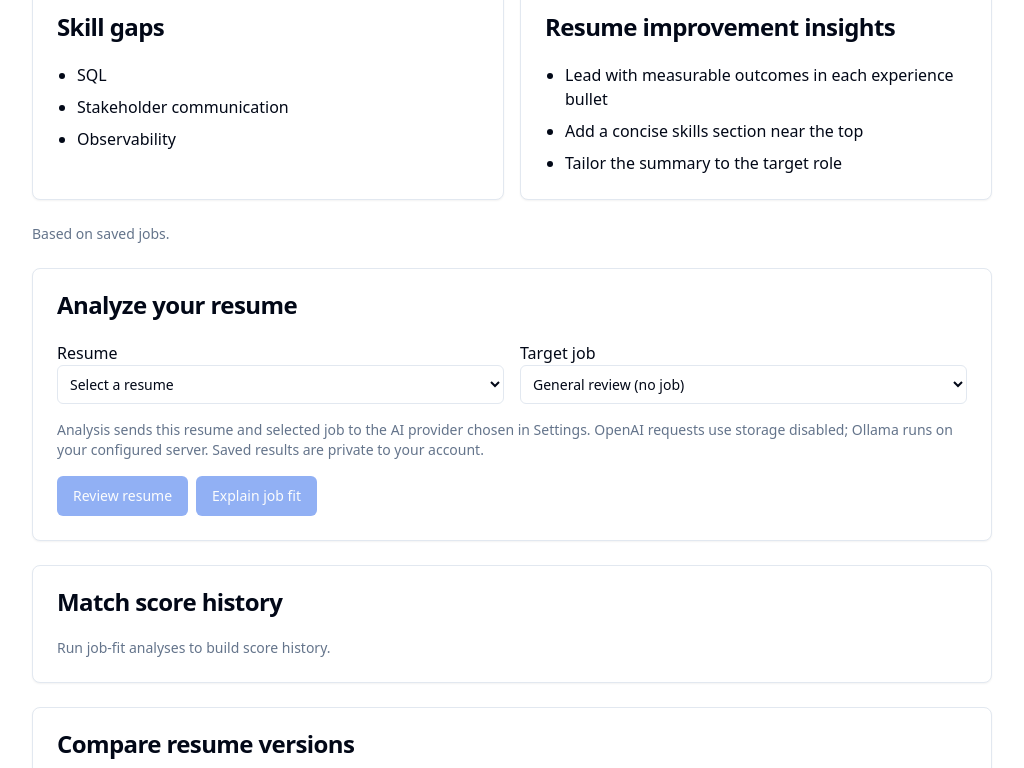
shows Demo insights when empty and submits selected IDs for explainable matching
(page scrolled)
Expected: the button "Explain job fit" is disabled, left=196, top=476, right=317, bottom=516
Select "Resume version 1" in the dropdown labelled "Resume": (280, 384) left=57, top=365, right=504, bottom=404
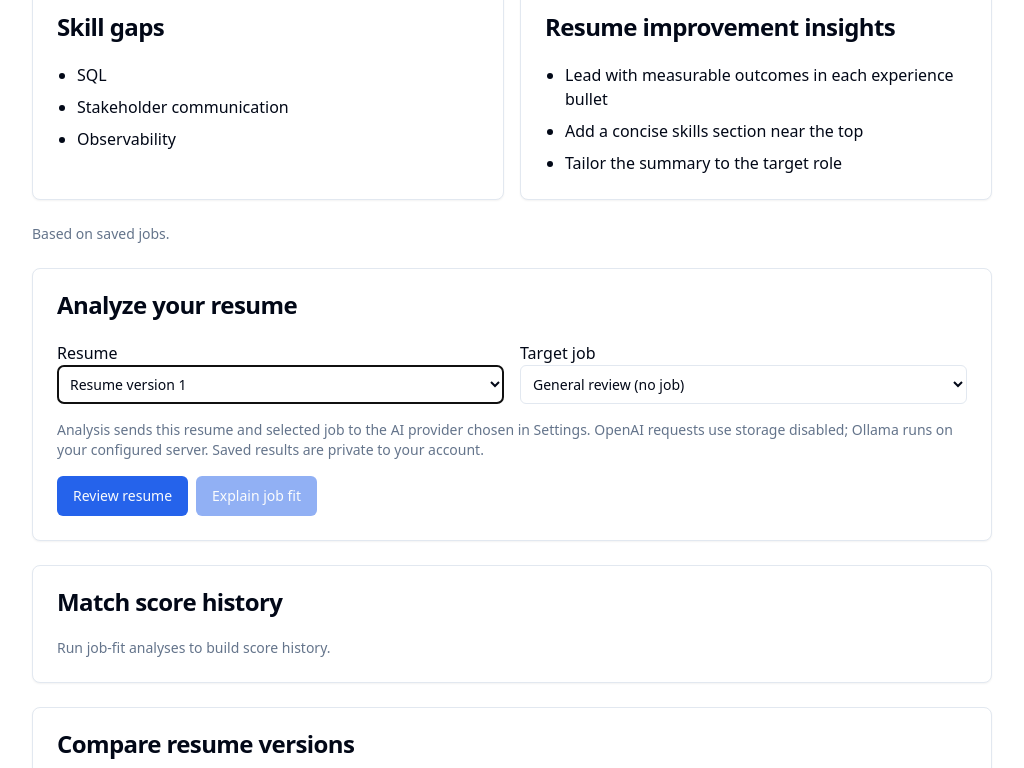
Select "Engineer · Example" in the dropdown labelled "Target job": (744, 384) left=520, top=365, right=967, bottom=404
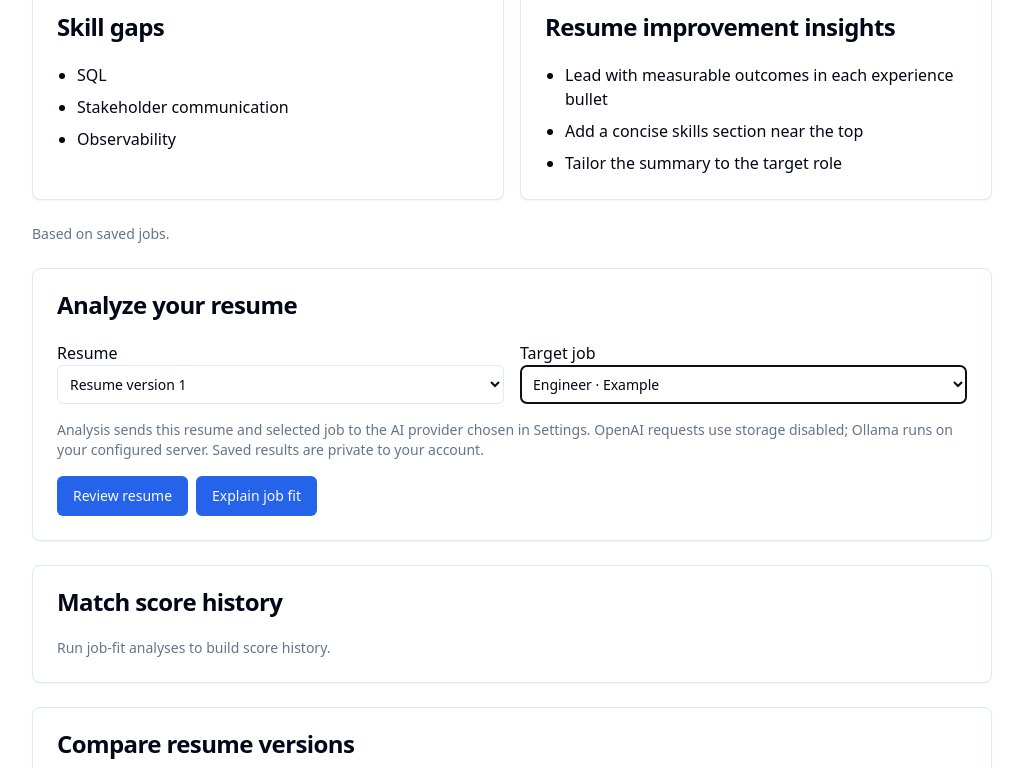
Click the button "Explain job fit": (257, 496) left=196, top=476, right=317, bottom=516
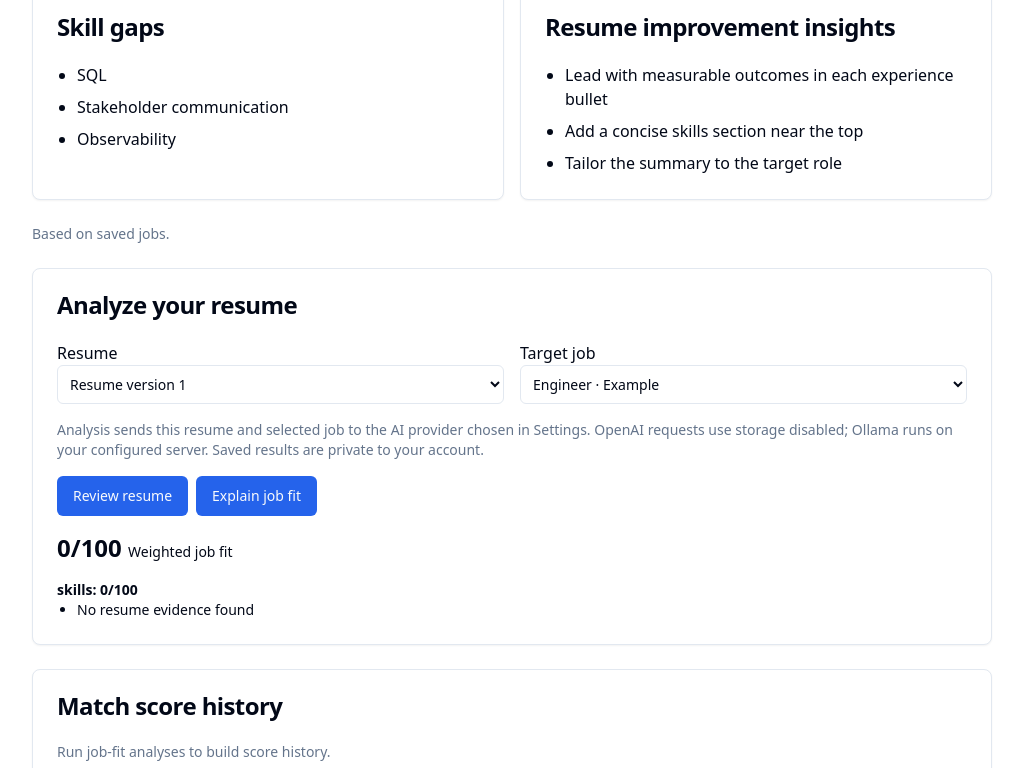
Now the list item "No resume evidence found" is shown, box left=77, top=600, right=254, bottom=619
Now the text "0/100 Weighted job fit" is shown, box left=57, top=531, right=233, bottom=564
